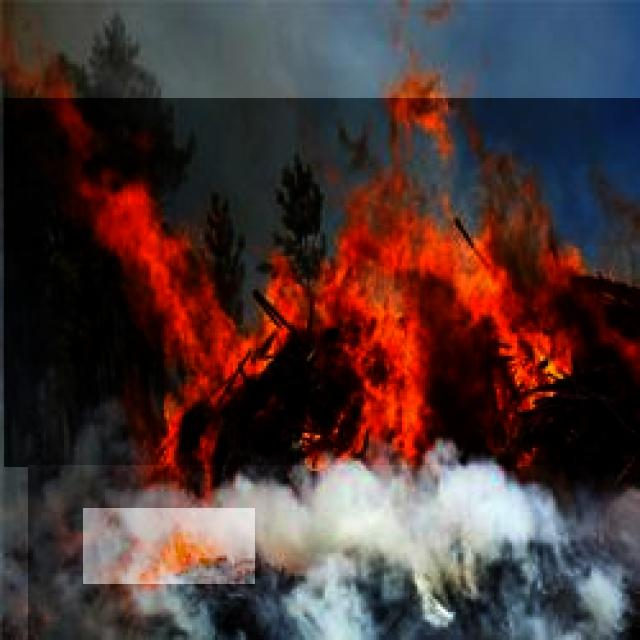Fire: (4, 98, 640, 467), (84, 508, 255, 584)
Smoke: (28, 465, 640, 640)
